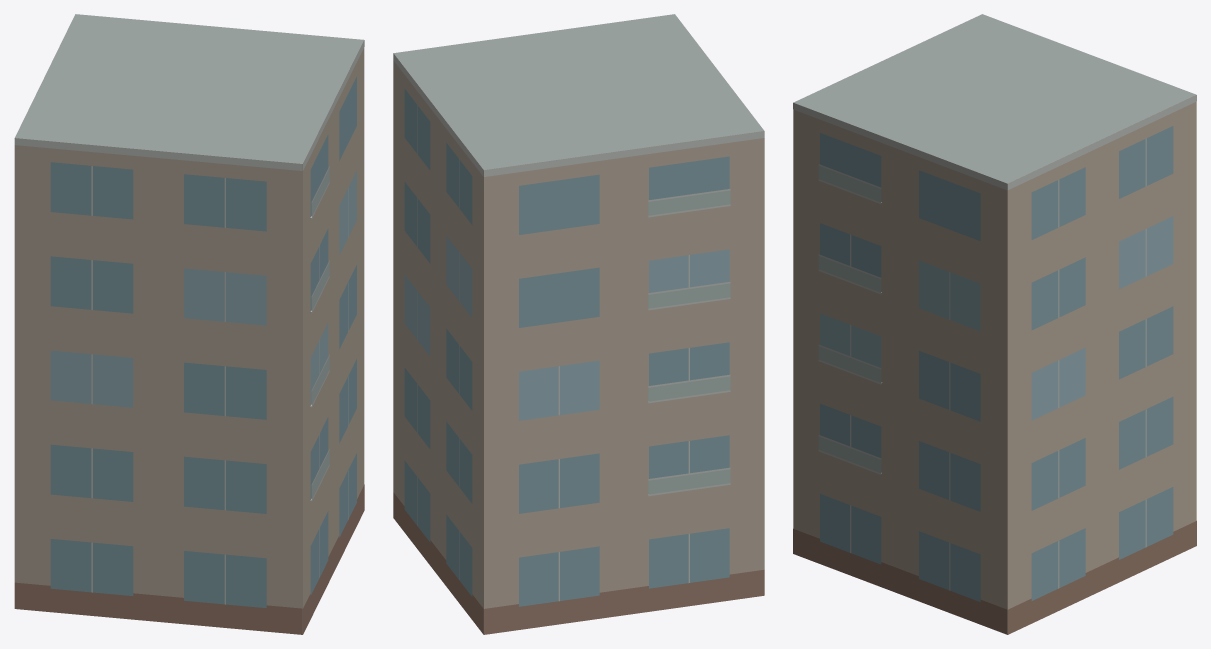
File: survey-upis-32539876.glb
3 renders of one model, left to right at view 1: azimuth 30°, elevation 25°; view 2: azimuth 150°, elevation 25°; view 3: azimuth 270°, elevation 25°, orthographic. The views are drawn at different scales.
Parts seen in each view (by area): view 1: survey-upis-32539876.tmp; view 2: survey-upis-32539876.tmp; view 3: survey-upis-32539876.tmp.
Part boxes in pixels (left/top/right/bottom): survey-upis-32539876.tmp: left=14, top=14, right=364, bottom=634; survey-upis-32539876.tmp: left=393, top=14, right=764, bottom=634; survey-upis-32539876.tmp: left=793, top=14, right=1196, bottom=634.
Size of the model in its own units: 13.16 by 16.3 by 13.22.
